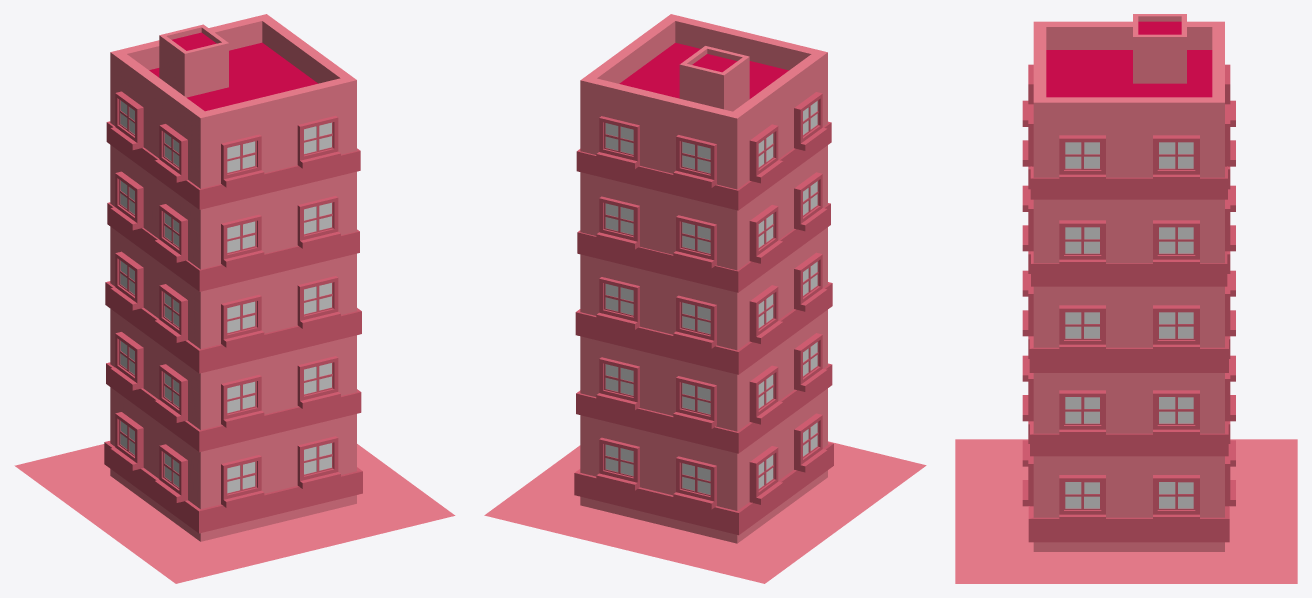
File: building_1_pink.fbx
3 views of the same model, side by side, from view 1: azimuth 30°, elevation 25°; view 2: azimuth 150°, elevation 25°; view 3: azimuth 270°, elevation 25° (orthographic). The views are drawn at different scales.
Parts seen in each view (by area): view 1: Cube.009, Plane, Cube.011, Cube.010; view 2: Cube.009, Plane, Cube.011, Cube.010; view 3: Cube.009, Plane, Cube.010, Cube.011.
Boxes of the visible parts, box(x1,y1,x2,y2) form: Cube.009: box(104, 14, 362, 541); Plane: box(14, 444, 455, 583); Cube.011: box(221, 115, 340, 507); Cube.010: box(110, 91, 187, 502); Cube.009: box(574, 14, 833, 543); Plane: box(484, 441, 926, 583); Cube.011: box(596, 116, 716, 509); Cube.010: box(749, 92, 827, 504); Cube.009: box(1028, 14, 1229, 551); Plane: box(955, 439, 1297, 583); Cube.010: box(1059, 135, 1199, 523); Cube.011: box(1022, 64, 1235, 506).
Size of the model in its own units: 1000 by 1527 by 1000.
